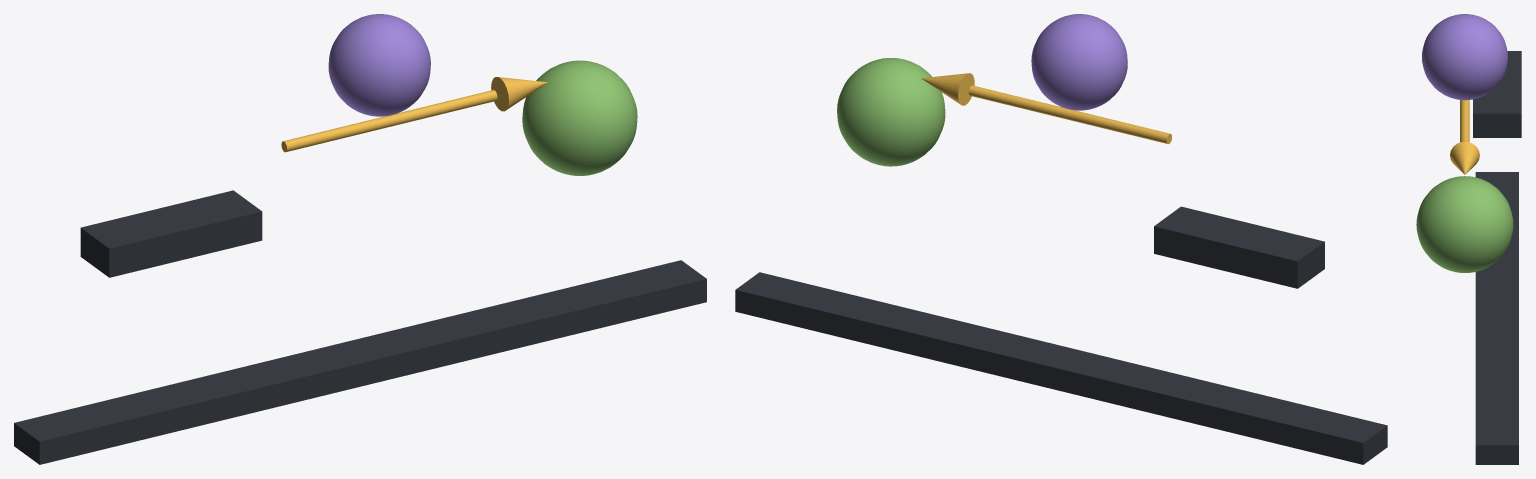
The model's file is chem-stoich-molar-mass.glb.
3 views of the same model, side by side, from view 1: azimuth 30°, elevation 25°; view 2: azimuth 150°, elevation 25°; view 3: azimuth 270°, elevation 25° (orthographic). The views are drawn at different scales.
Parts seen in each view (by area): view 1: stoichiometry-bench, mole-result-counted-sample, scale-pan-gram-mass, formula-mass-molecule, grams-to-moles-bridge-shaft, grams-to-moles-bridge-head; view 2: stoichiometry-bench, mole-result-counted-sample, scale-pan-gram-mass, formula-mass-molecule, grams-to-moles-bridge-shaft, grams-to-moles-bridge-head; view 3: stoichiometry-bench, mole-result-counted-sample, formula-mass-molecule, scale-pan-gram-mass, grams-to-moles-bridge-head, grams-to-moles-bridge-shaft.
Boxes of the visible parts, x1,y1,x2,y2 form: stoichiometry-bench: (14,260,706,464); mole-result-counted-sample: (522,60,637,175); scale-pan-gram-mass: (80,190,262,277); formula-mass-molecule: (328,14,430,116); grams-to-moles-bridge-shaft: (281,90,497,152); grams-to-moles-bridge-head: (491,77,547,111); stoichiometry-bench: (735,272,1387,464); mole-result-counted-sample: (837,58,945,166); scale-pan-gram-mass: (1154,206,1324,288); formula-mass-molecule: (1031,14,1127,110); grams-to-moles-bridge-shaft: (968,85,1171,144); grams-to-moles-bridge-head: (921,73,974,105); stoichiometry-bench: (1475,172,1518,464); mole-result-counted-sample: (1416,176,1513,272); formula-mass-molecule: (1422,14,1507,100); scale-pan-gram-mass: (1473,51,1521,137); grams-to-moles-bridge-head: (1450,142,1479,174); grams-to-moles-bridge-shaft: (1460,100,1469,142).
Size of what is drawn, in the model's own units: 2.4 by 1.27 by 0.39.
